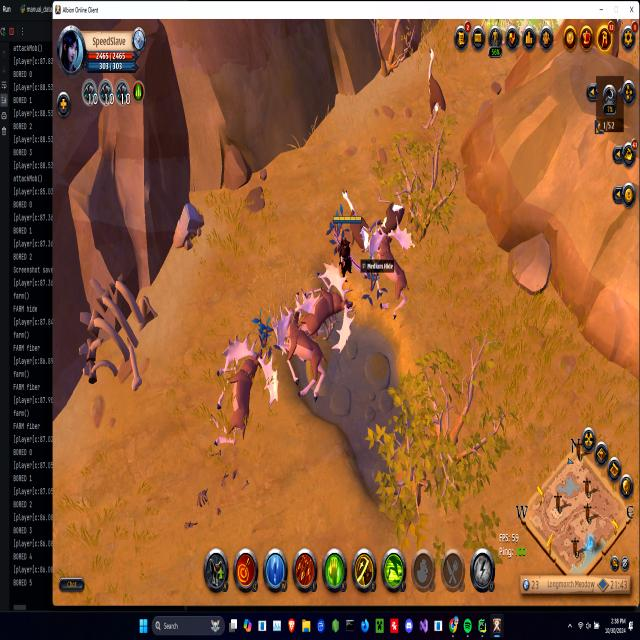mob: (208, 321, 278, 452), (273, 290, 330, 398), (298, 260, 354, 351), (369, 223, 412, 317), (339, 185, 372, 250), (375, 191, 408, 234)
ore: (422, 46, 448, 132)
red: (332, 214, 359, 277)
